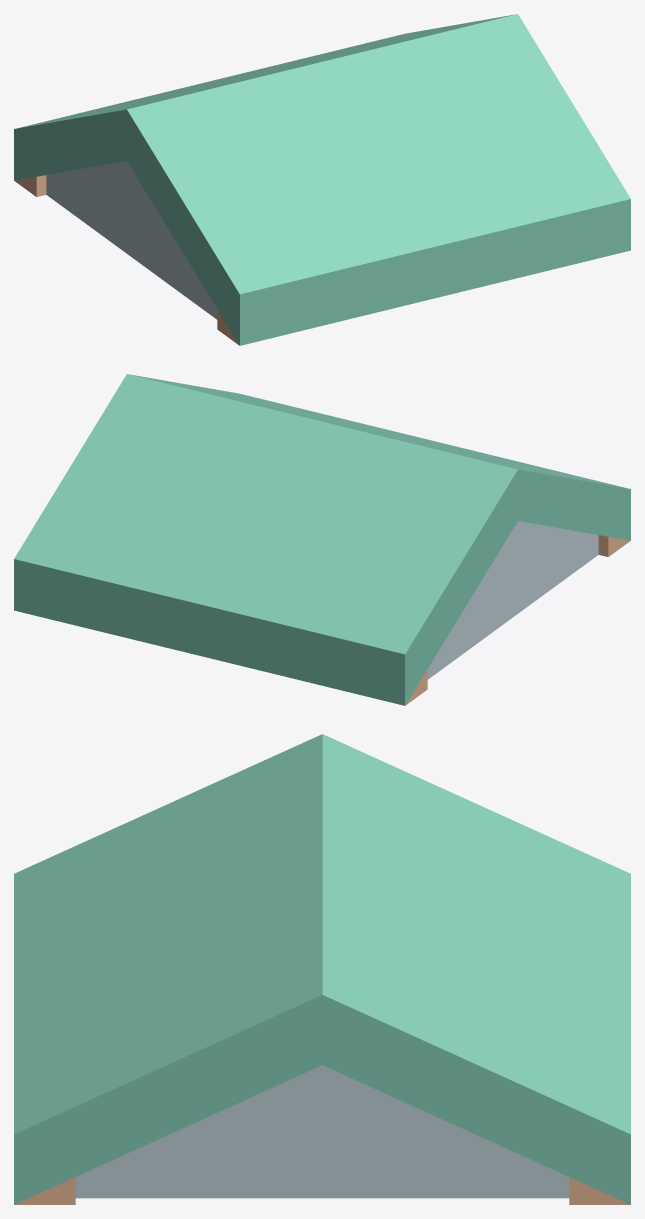
Rendered from roofGableTop.glb.
3 views of the same model, one above another, from view 1: azimuth 30°, elevation 25°; view 2: azimuth 150°, elevation 25°; view 3: azimuth 270°, elevation 25° (orthographic). The views are drawn at different scales.
Visible parts, largest first — view 1: roofGableTop; view 2: roofGableTop; view 3: roofGableTop.
Boxes of the visible parts, <box> form: roofGableTop: <box>14,14,630,345</box>; roofGableTop: <box>14,374,630,705</box>; roofGableTop: <box>14,734,630,1204</box>.
Bounding box in the file's own units: 1 × 0.3759 × 1.
